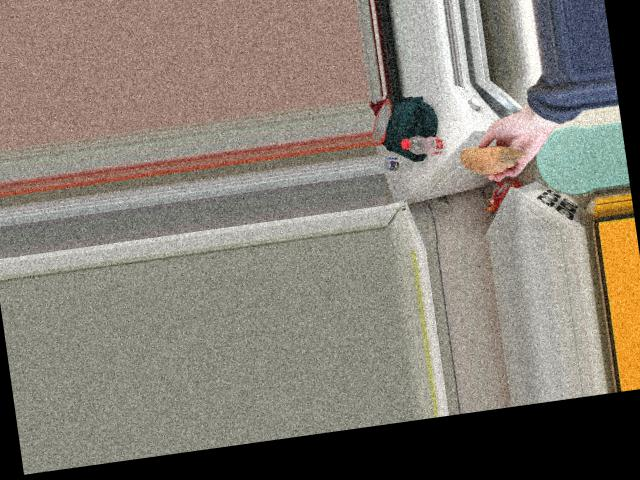sweet_potato: (445, 143, 516, 177)
